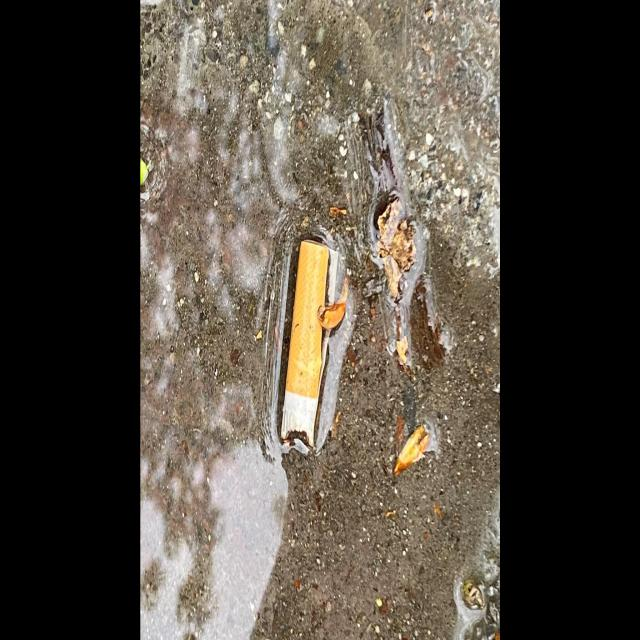other waste: (278, 237, 330, 453)
